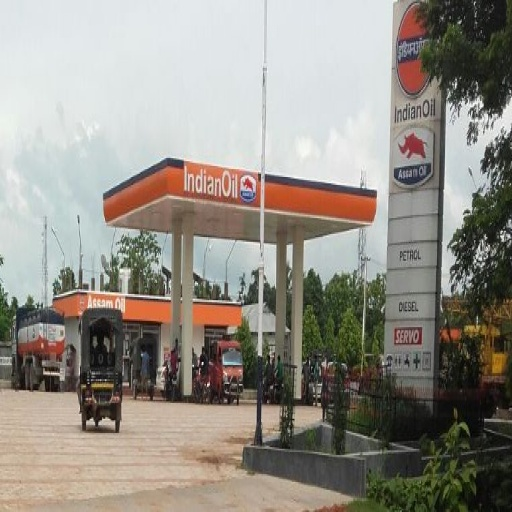roof: (105, 156, 379, 245)
